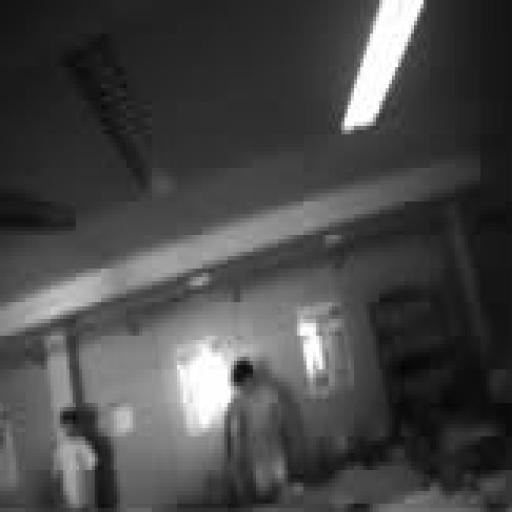human: (225, 357, 287, 503), (54, 408, 97, 511)
